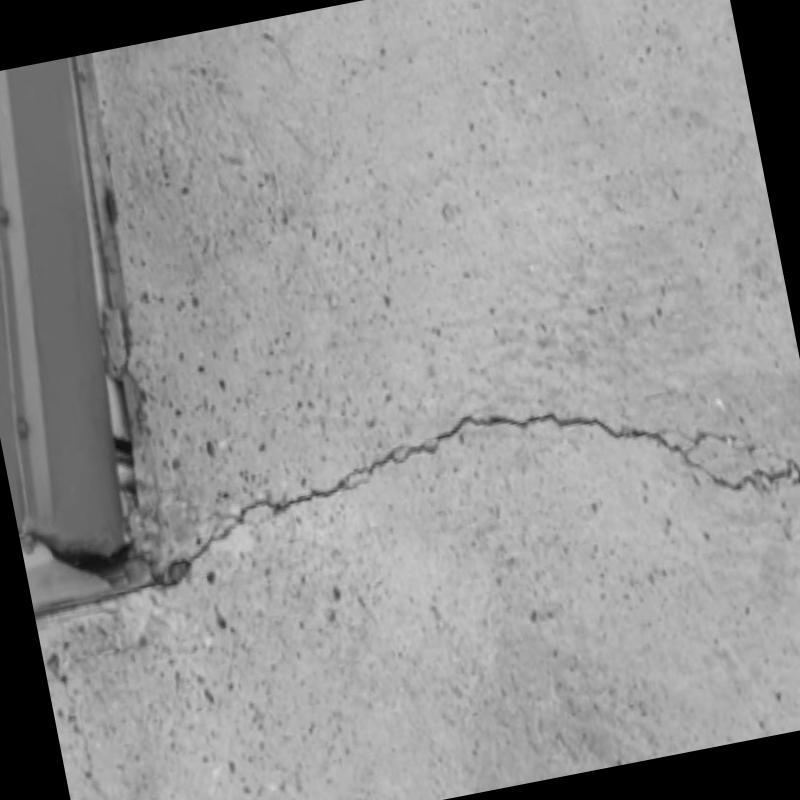crack: (33, 413, 800, 617)
